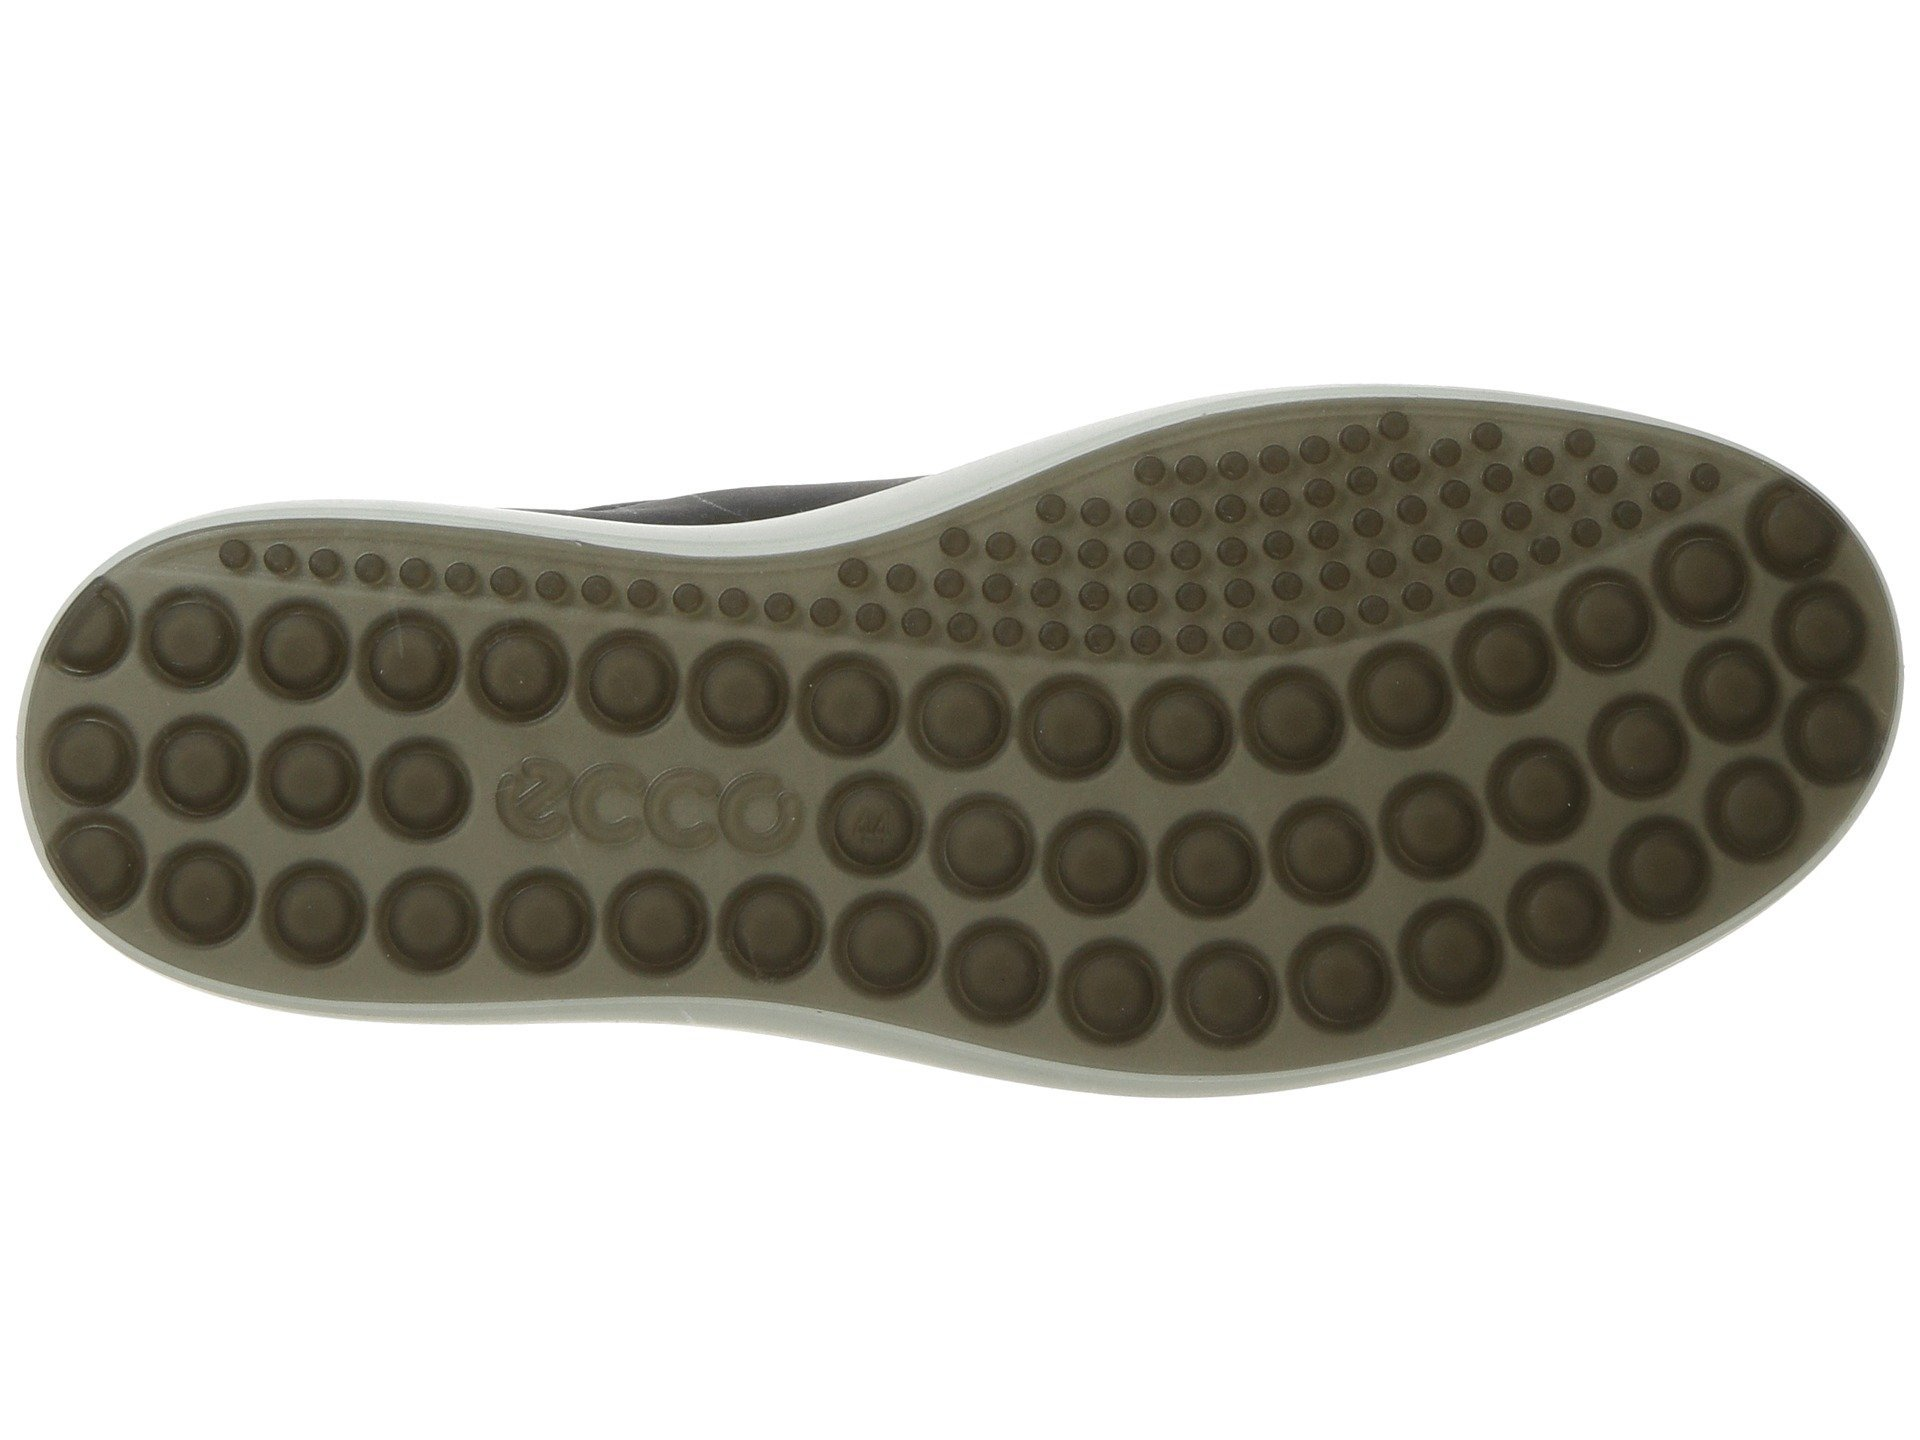circle: (990, 479, 1696, 933), (479, 749, 819, 880)
line: (990, 479, 1696, 933)
text: (479, 749, 819, 880)
